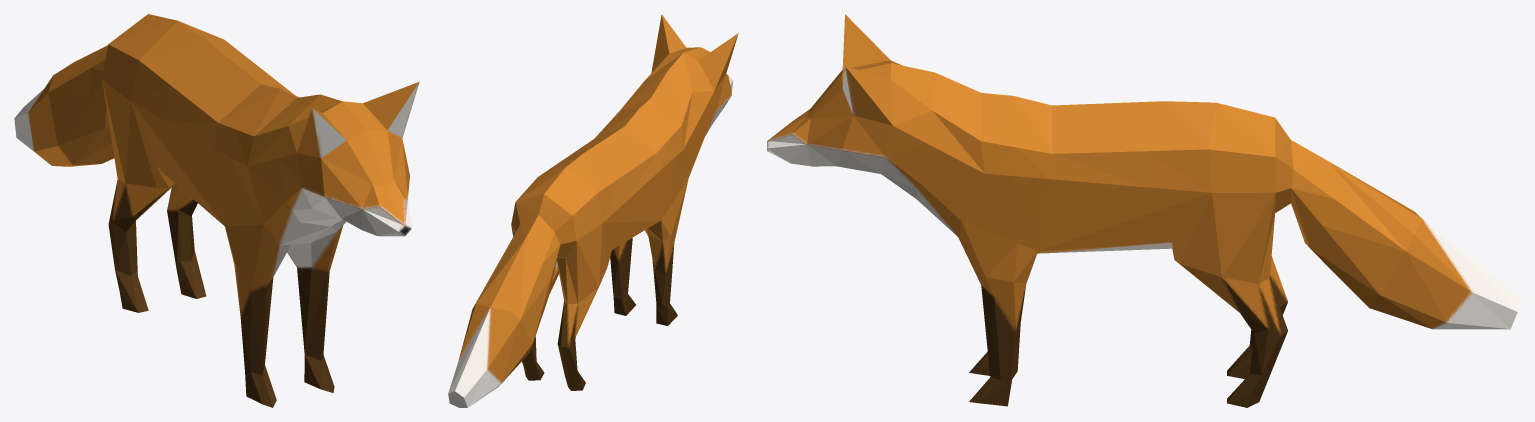
Rendered from low-poly-fox-by-pixelmannen--animated-371dea.glb.
3 renders of one model, left to right at view 1: azimuth 30°, elevation 25°; view 2: azimuth 150°, elevation 25°; view 3: azimuth 270°, elevation 25°, orthographic. The views are drawn at different scales.
Visible parts, largest first — view 1: PropMesh; view 2: PropMesh; view 3: PropMesh.
Boxes of the visible parts, bbox=[...] form: PropMesh: bbox=[14, 14, 419, 407]; PropMesh: bbox=[448, 14, 738, 407]; PropMesh: bbox=[767, 14, 1520, 407].
Bounding box in the file's own units: 0.1791 × 0.5619 × 1.1.
1 material, 1 textured.
